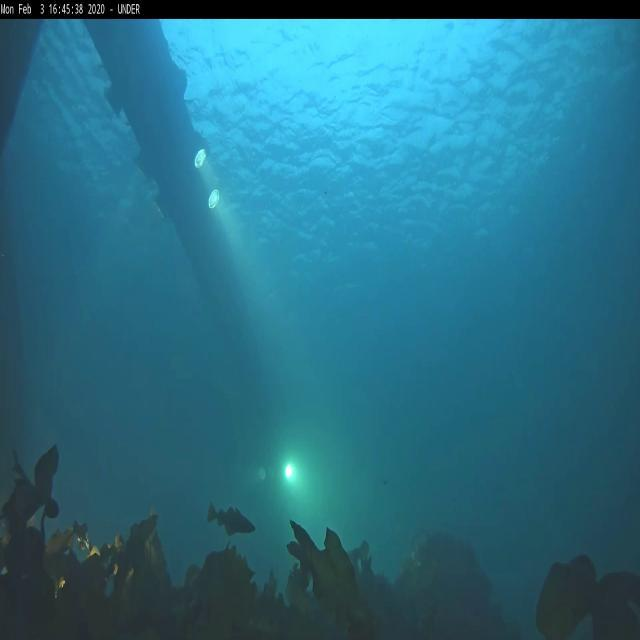fish: (206, 500, 256, 538)
